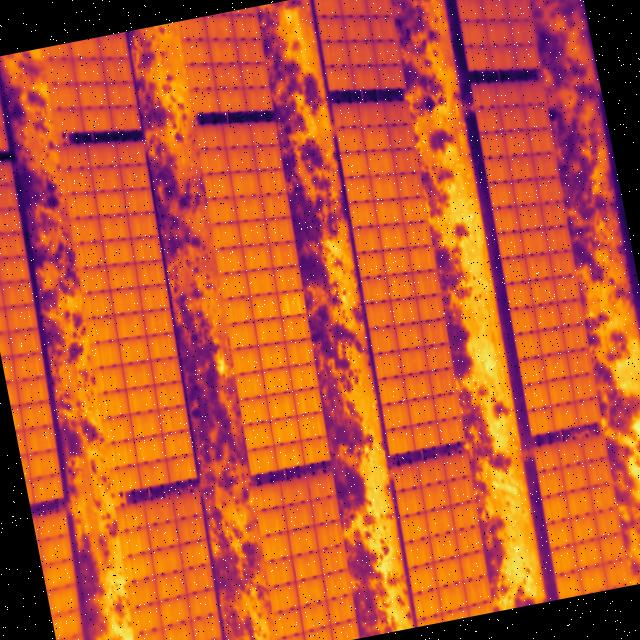Hotspot: (290, 300, 296, 306)
